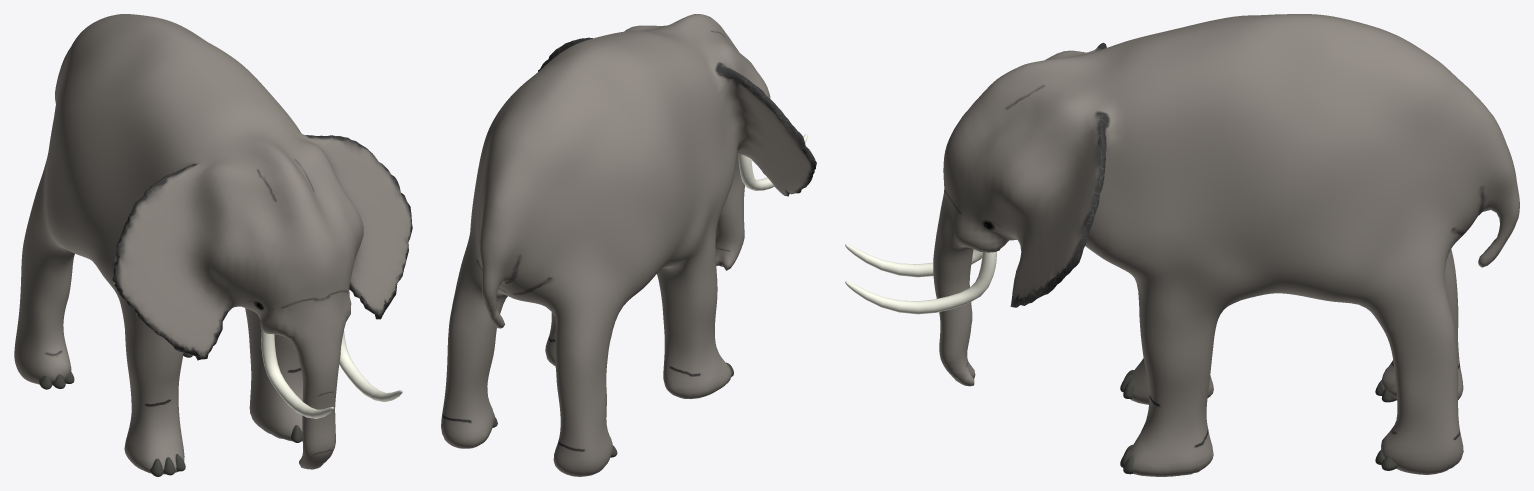
The model's file is Elephant.glb.
The picture shows the model from 3 angles, left to right: view 1: azimuth 30°, elevation 25°; view 2: azimuth 150°, elevation 25°; view 3: azimuth 270°, elevation 25°; orthographic projection. The views are drawn at different scales.
Parts seen in each view (by area): view 1: Elephant, Ivory, Nails; view 2: Elephant, Ivory; view 3: Elephant, Ivory, Nails.
Part boxes in pixels (x1,y1,x2,y2): Elephant: (14,14,412,474); Ivory: (261,329,402,418); Nails: (39,352,302,476); Elephant: (441,14,816,476); Ivory: (738,134,807,190); Elephant: (933,14,1519,476); Ivory: (845,244,996,314); Nails: (1120,370,1397,474).
Bounding box in the file's own units: 2.22 × 2.7 × 3.95.
3 materials, 1 textured.
